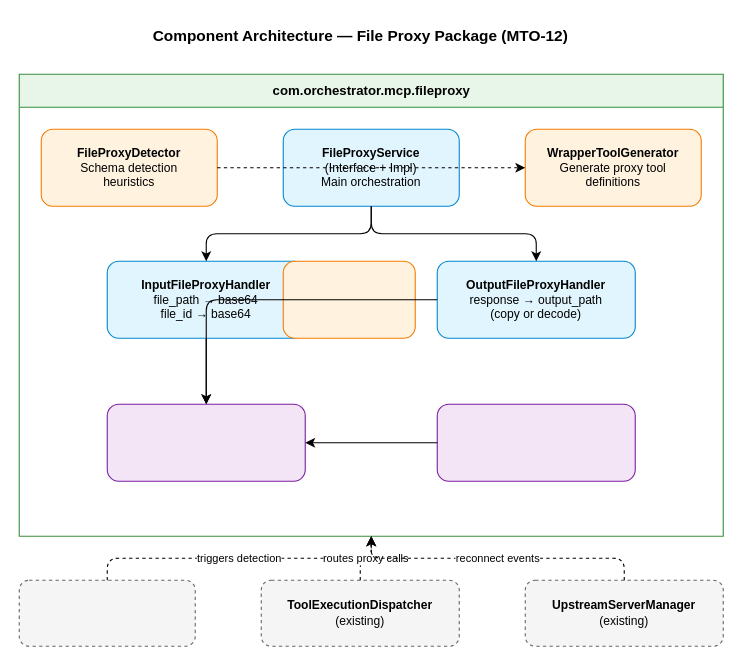
The diagram is 743 pixels wide and 666 high, and some of its shapes have lost their labels. Each missing label, with the box of its shape:
FileProxyCleanupService Startup / Shutdown / TTL cleanup strategies: (436, 403, 635, 481)
FileProxyRegistry (Interface + Impl) PostgreSQL CRUD: (106, 403, 305, 481)
FileUploadHandler HTTP/SSE upload (upload_file tool): (282, 260, 415, 338)
ToolDiscoveryService (existing): (18, 579, 195, 646)
